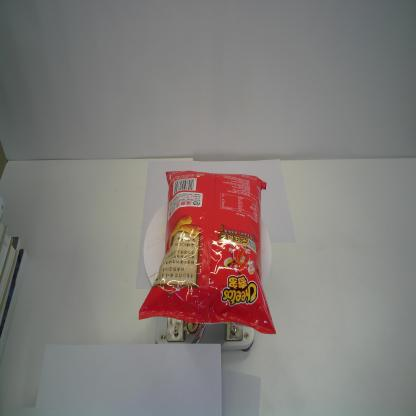Puffed Food: (136, 167, 280, 338)
